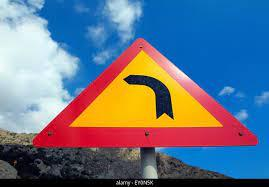Left hand curve: (42, 28, 257, 149)
